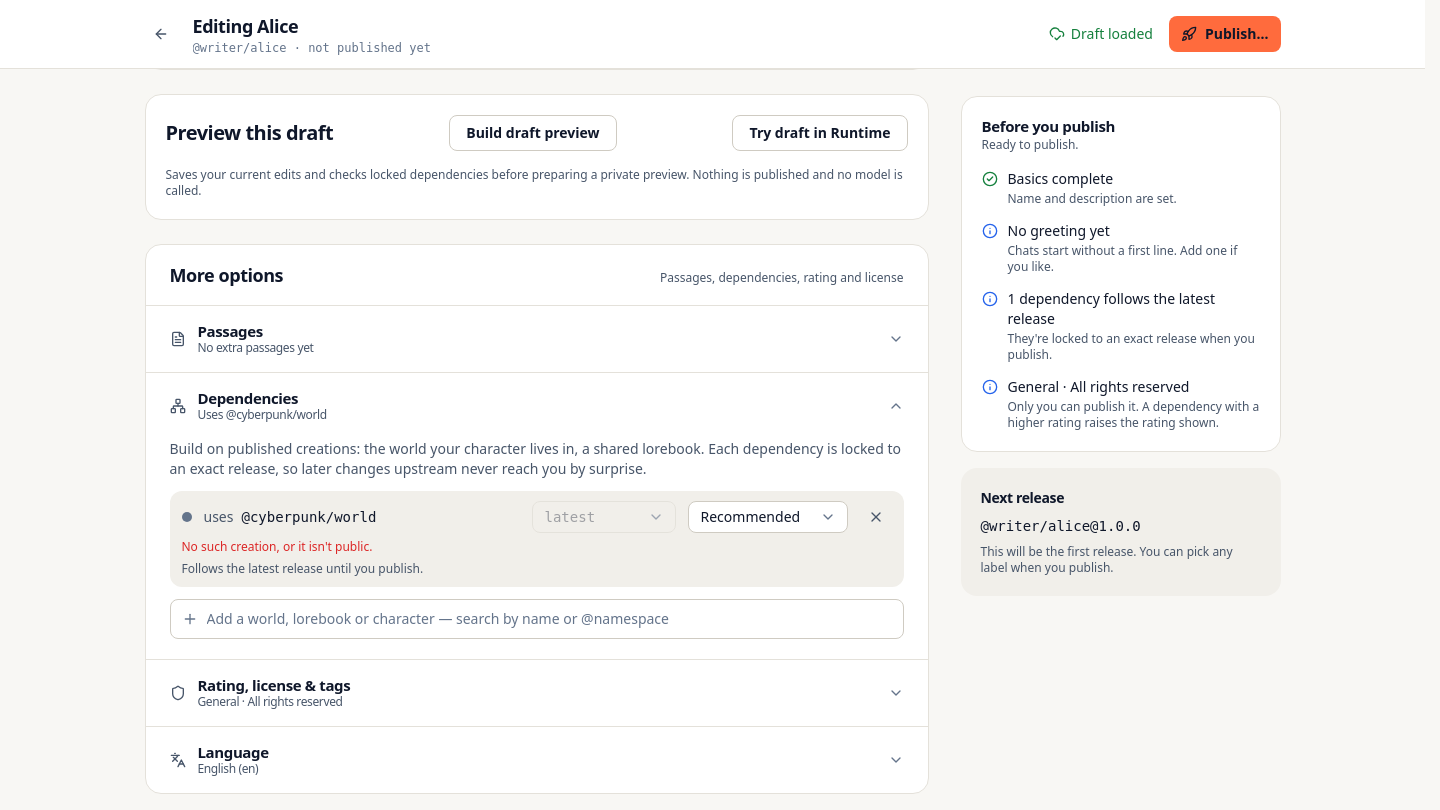
Editor › opens the dependencies section from the checks panel
This screenshot has width=1440, height=810.
(page scrolled)
Step 1. Click the button "Dependencies Uses @cyberpunk/world" → click(248, 398), box left=146, top=373, right=928, bottom=439
(page scrolled)
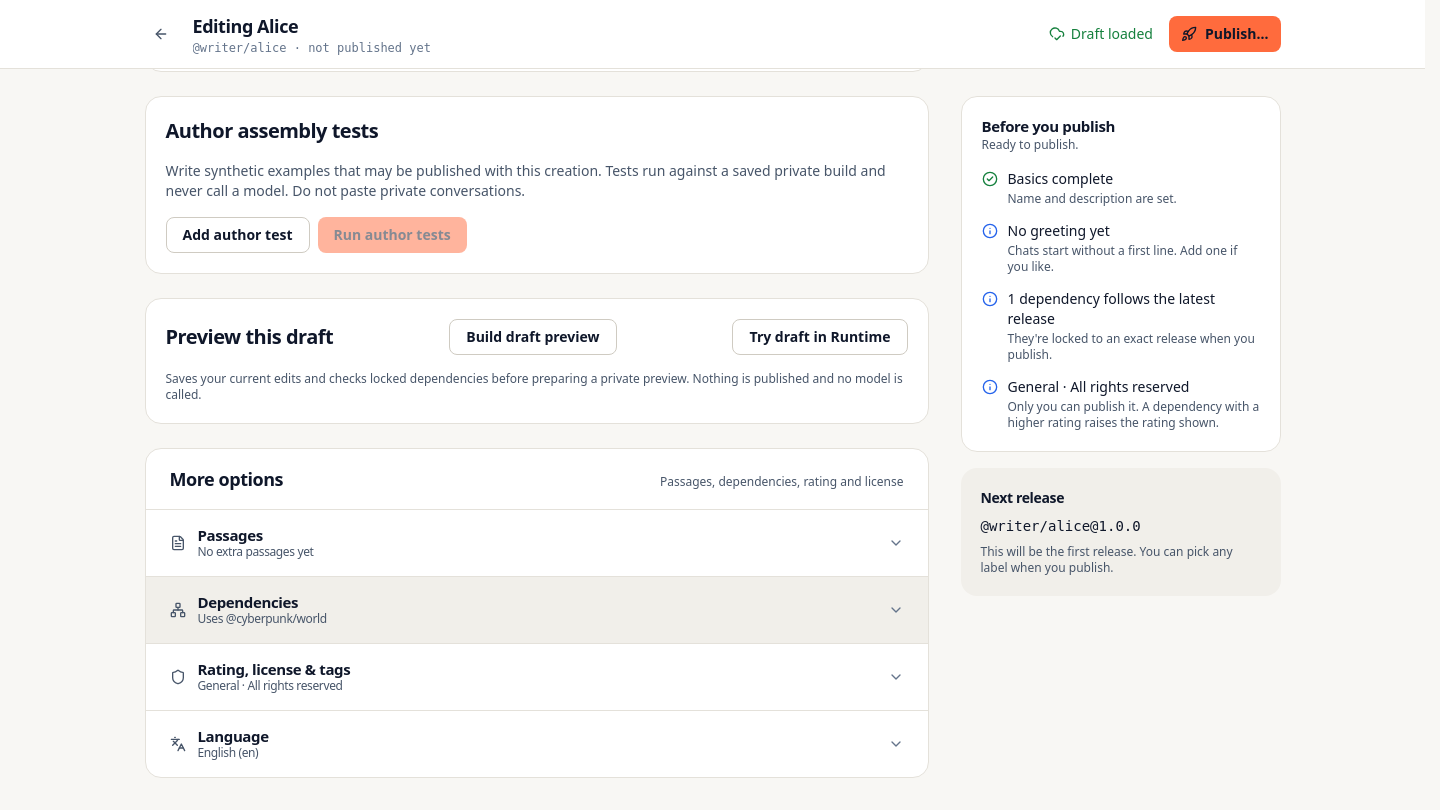
Expected: the button "Dependencies Uses @cyberpunk/world" is collapsed, left=146, top=577, right=928, bottom=643
Step 2. Click the button "1 dependency follows the latest release" → click(1134, 309), box left=1008, top=289, right=1260, bottom=329
(page scrolled)
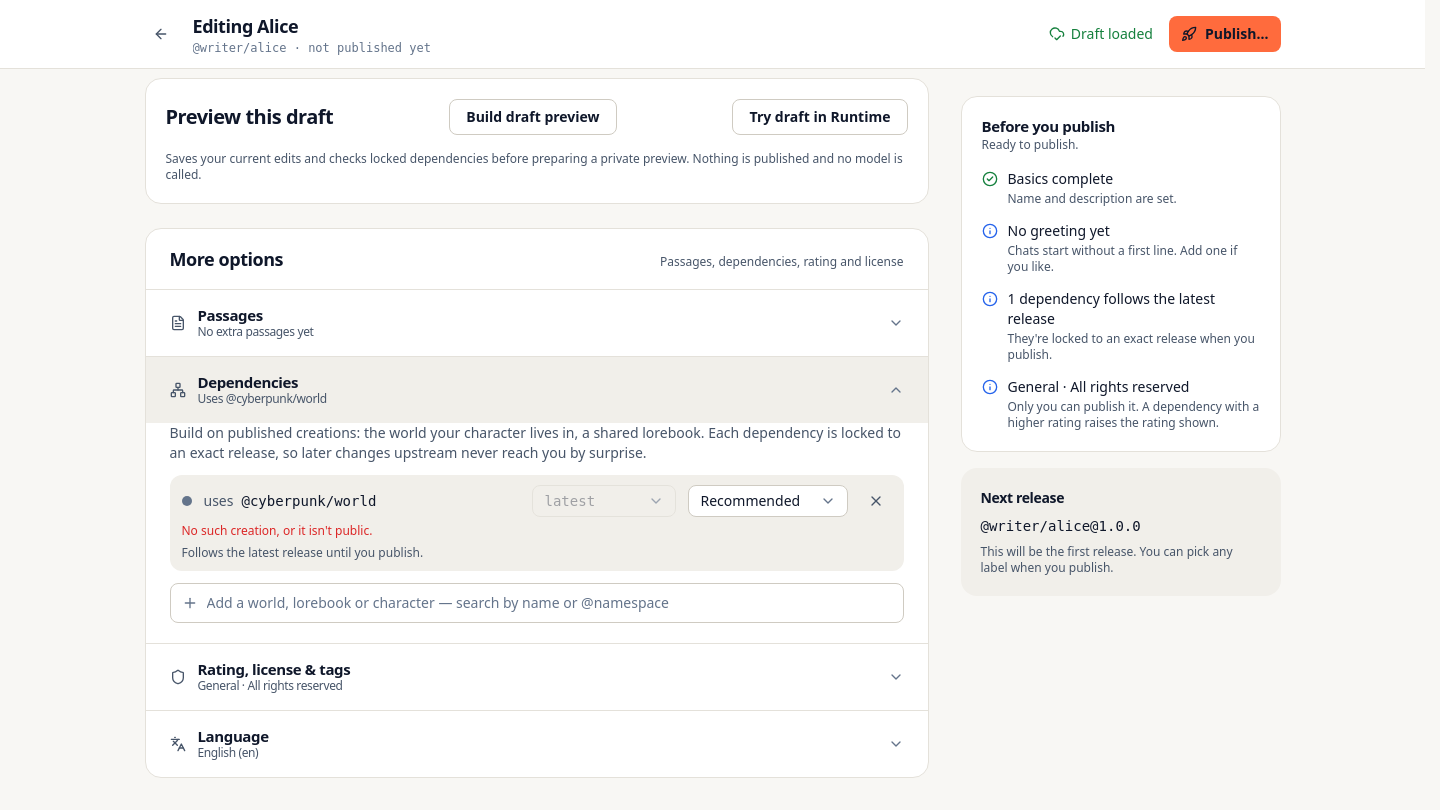
Expected: the button "Dependencies Uses @cyberpunk/world" is expanded, left=146, top=357, right=928, bottom=423
